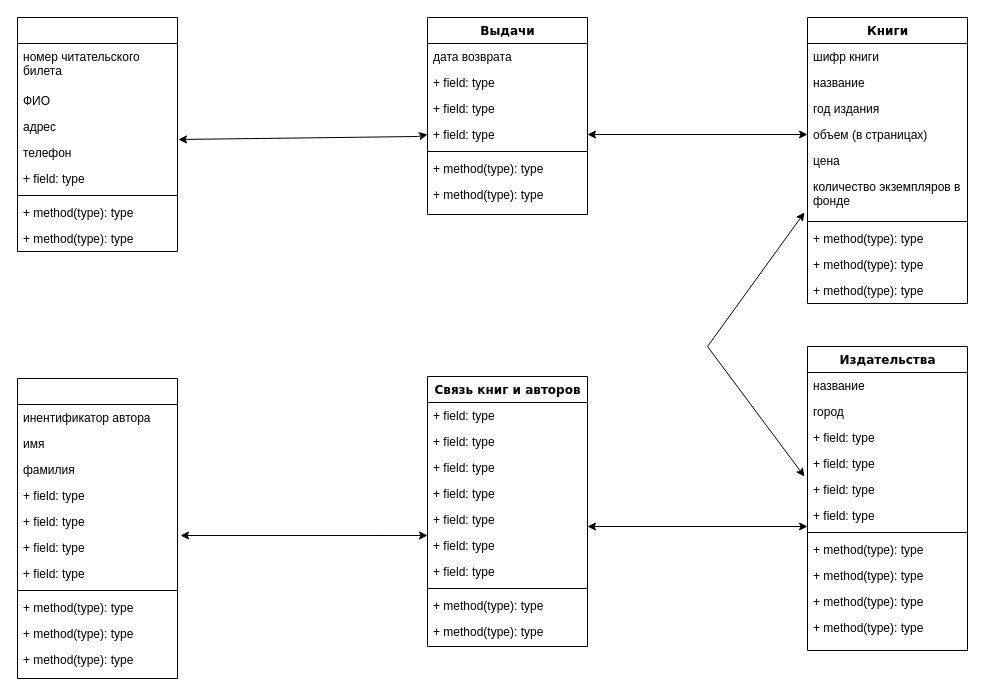
Some shapes in this 985 by 696 pixel diagram are drawn without their labels. Each missing label, with the box of its shape:
Авторы: (16, 378, 178, 678)
Читатели: (16, 16, 178, 252)
